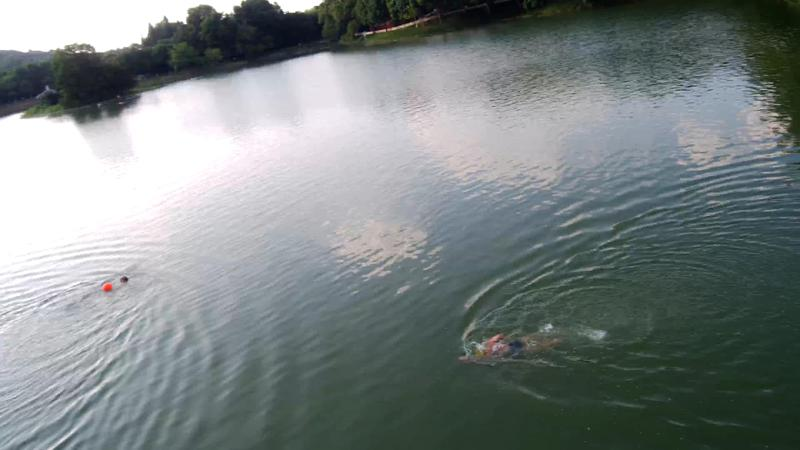swimmers: (456, 325, 561, 365), (117, 273, 130, 287)
